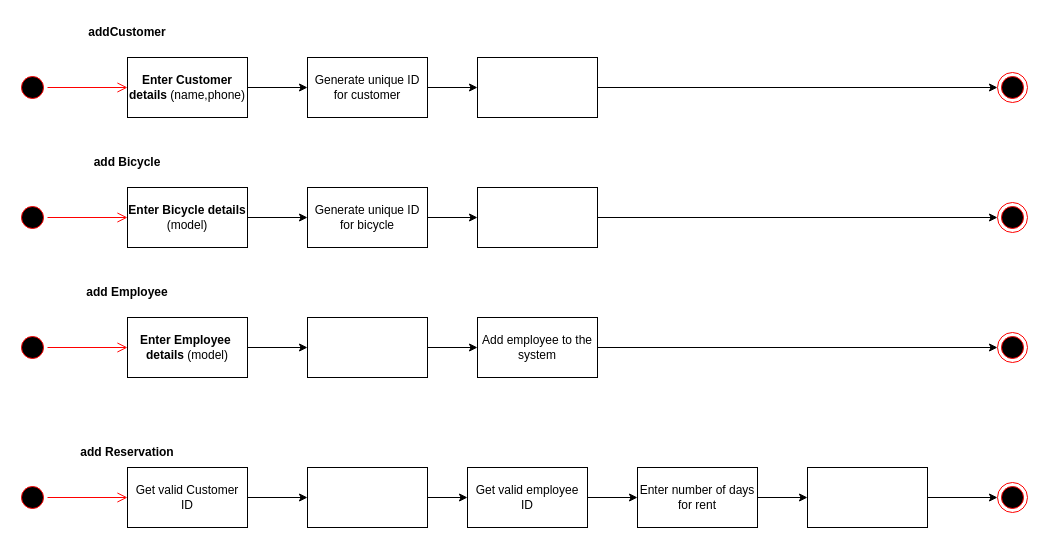
Image size: 1045x545. Some labels were removed from this diagram. Each missing label, with the centre of its shape:
Add bicycleto the system: (x=537, y=217)
Add customer to the system: (x=537, y=87)
Add reservation to the system: (x=867, y=497)
Generate unique ID for employee: (x=367, y=347)
Get valid Bicycel ID: (x=367, y=497)
